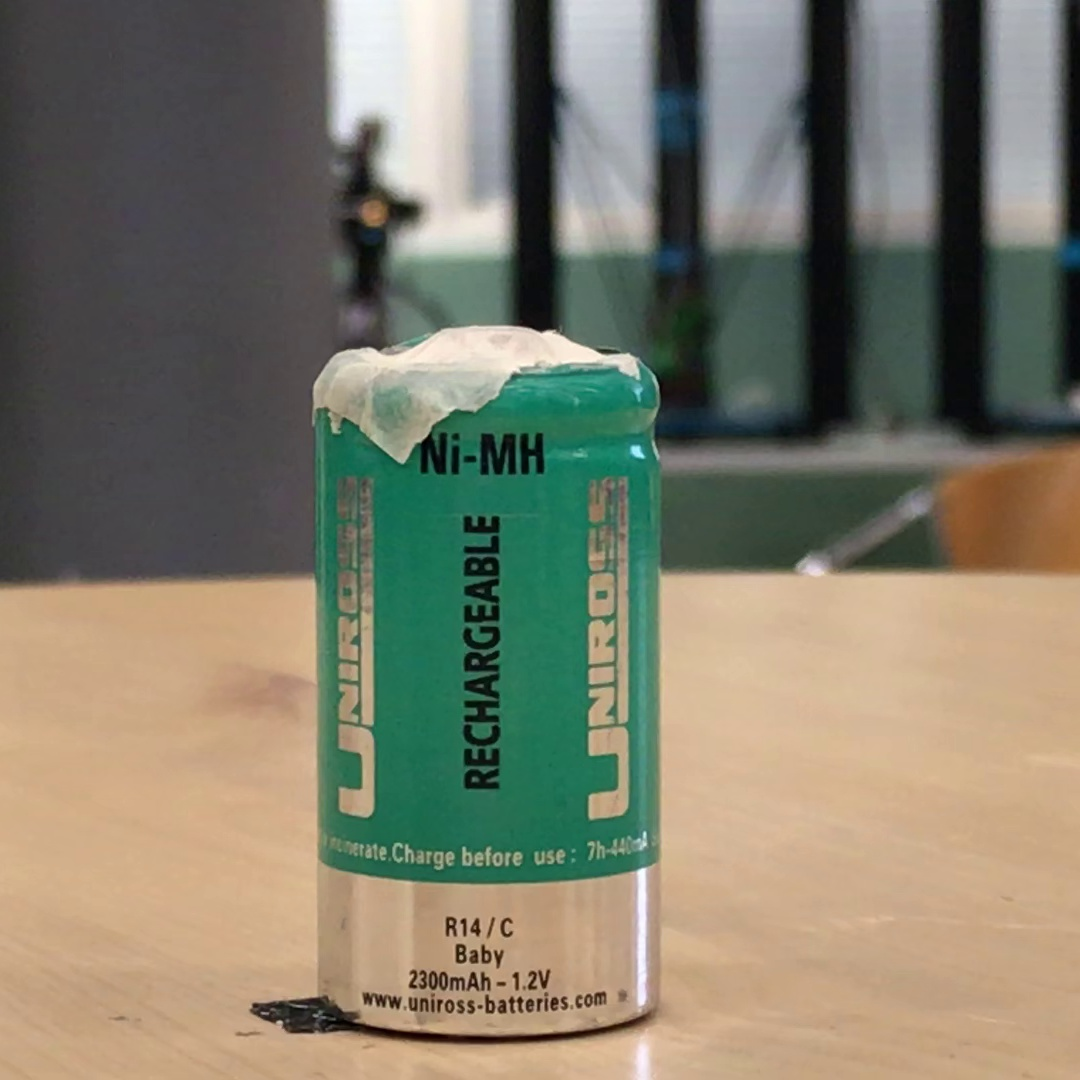keyword: (502, 959, 561, 1001)
